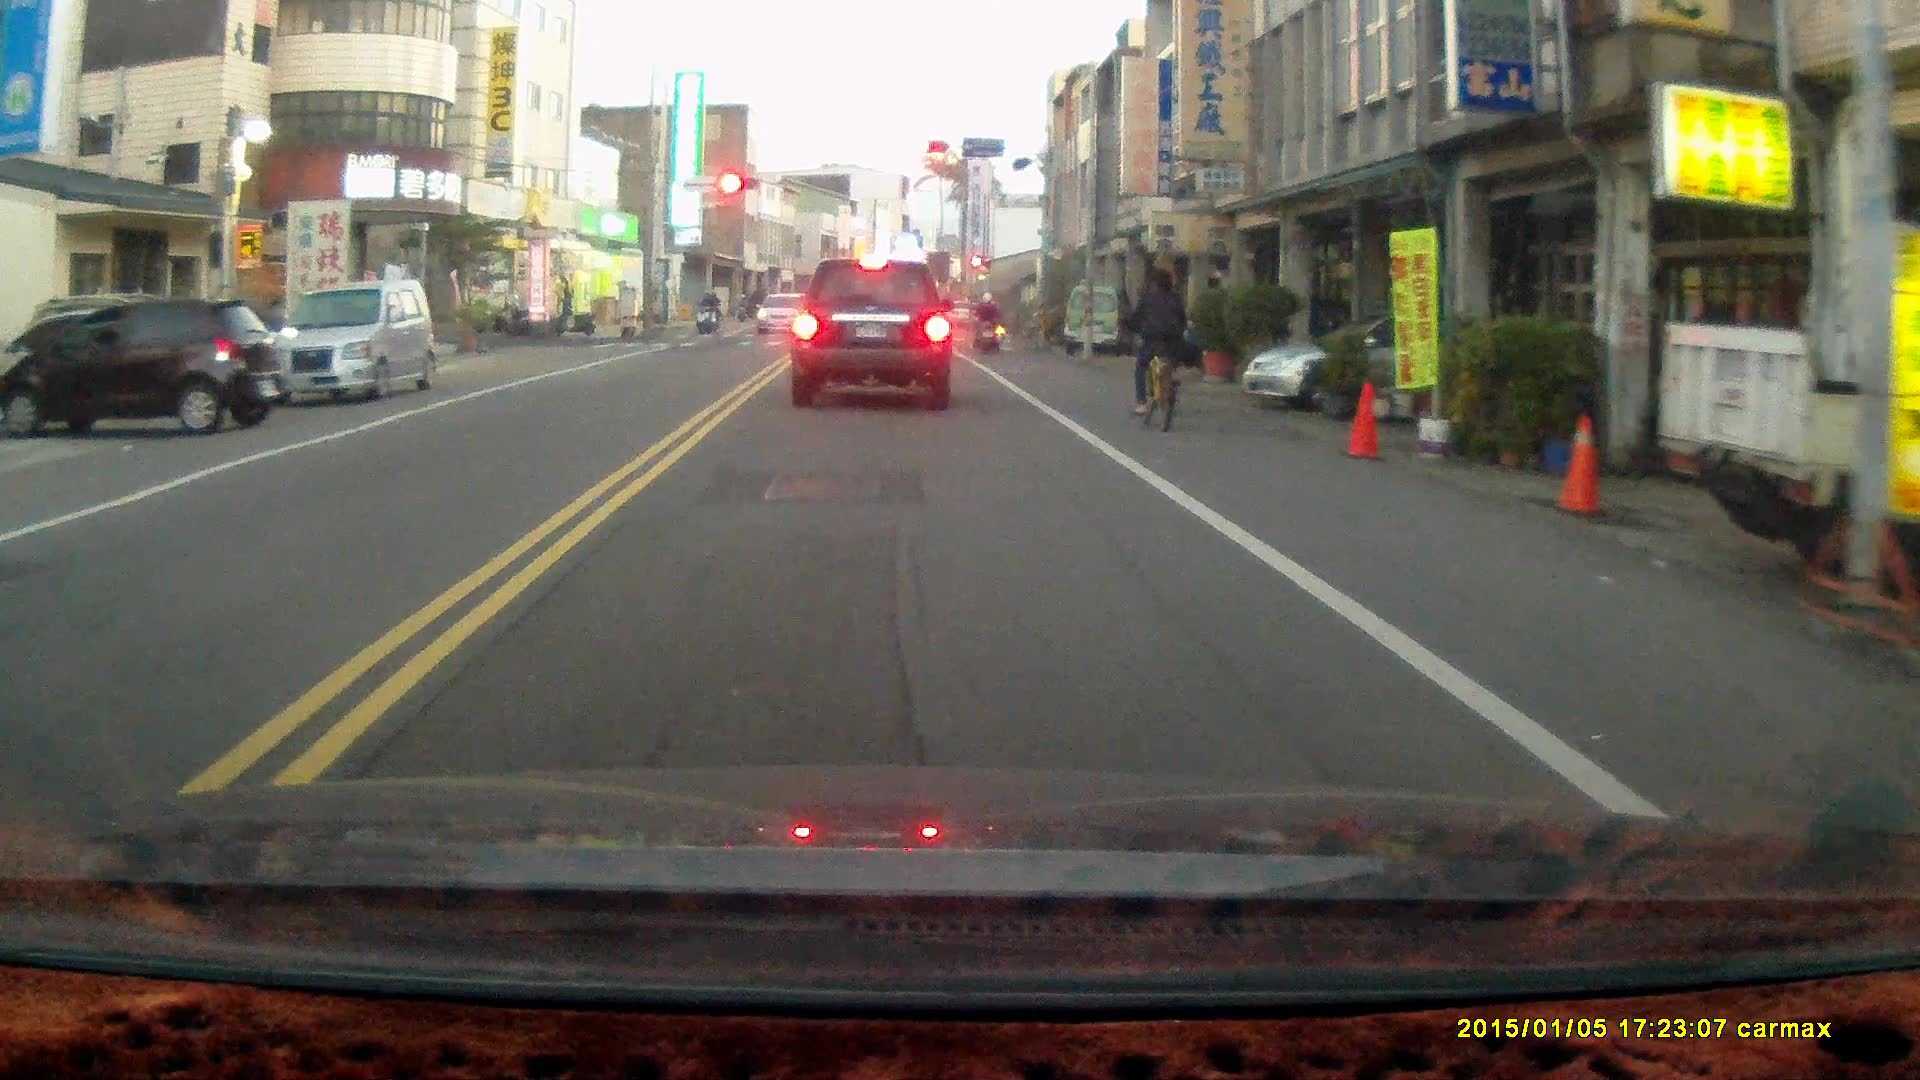rider: (1126, 266, 1190, 433), (969, 288, 1002, 354), (692, 287, 716, 335)
vehicle: (6, 296, 290, 441), (1238, 309, 1530, 416), (789, 259, 954, 413), (262, 281, 440, 405), (1062, 290, 1130, 363)
